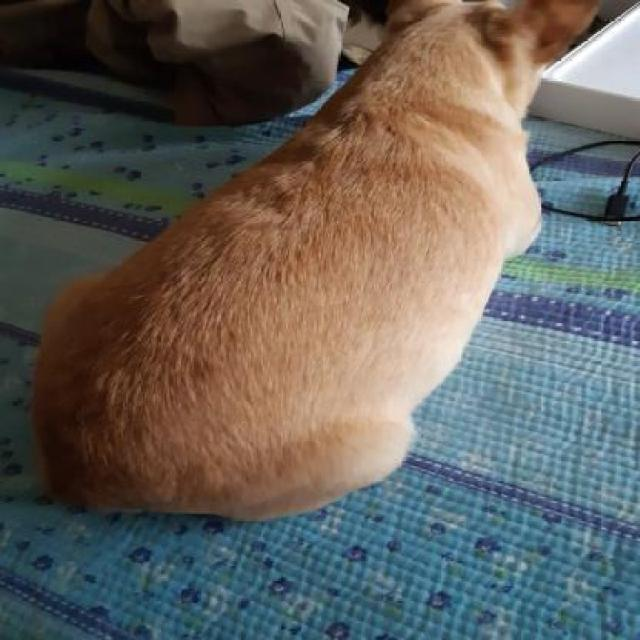Dog: (3, 3, 608, 523)
